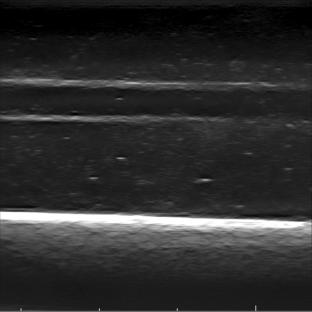vessel: (3, 79, 273, 125)
